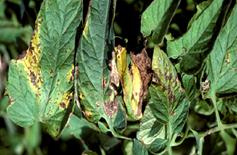Tomato leaf bacterial spot: (6, 0, 84, 140), (75, 0, 123, 129), (151, 40, 189, 142), (201, 0, 237, 101)
